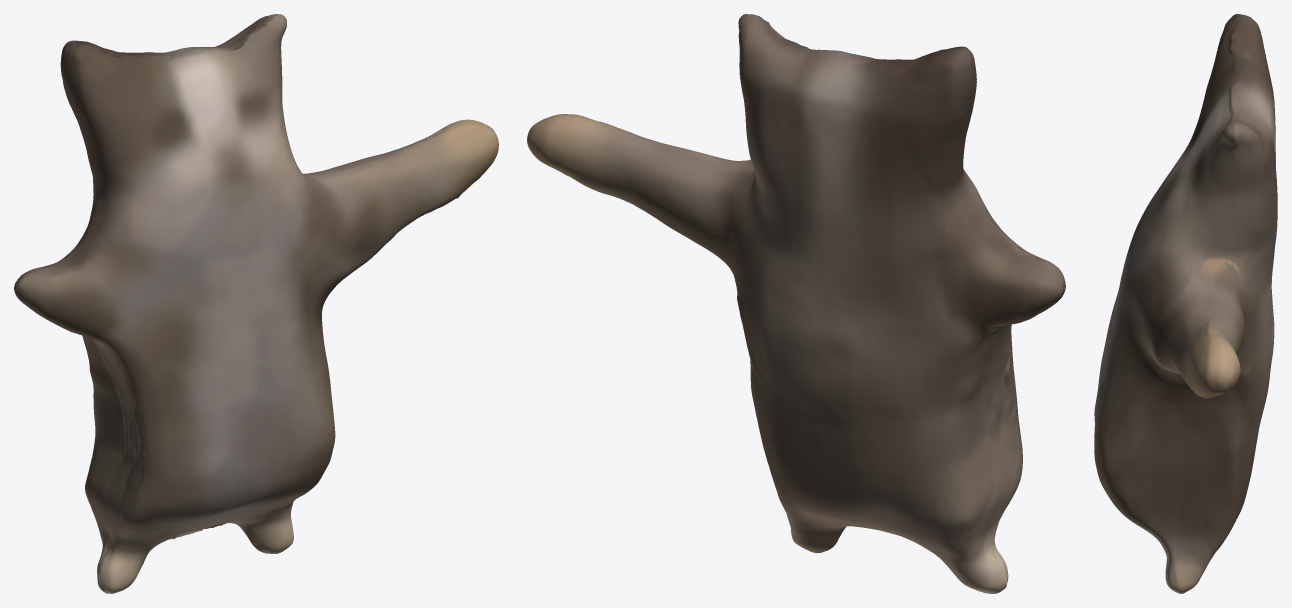
Rendered from happycat.glb.
3 renders of one model, left to right at view 1: azimuth 30°, elevation 25°; view 2: azimuth 150°, elevation 25°; view 3: azimuth 270°, elevation 25°, orthographic. The views are drawn at different scales.
Visible parts, largest first — view 1: Retopo_model; view 2: Retopo_model; view 3: Retopo_model.
Part boxes in pixels (x1,y1,x2,y2): Retopo_model: (14,14,498,593); Retopo_model: (527,14,1065,593); Retopo_model: (1094,14,1277,593).
Bounding box in the file's own units: 0.8761 × 0.9085 × 0.302.
Materials: 1 (1 with a texture image).
